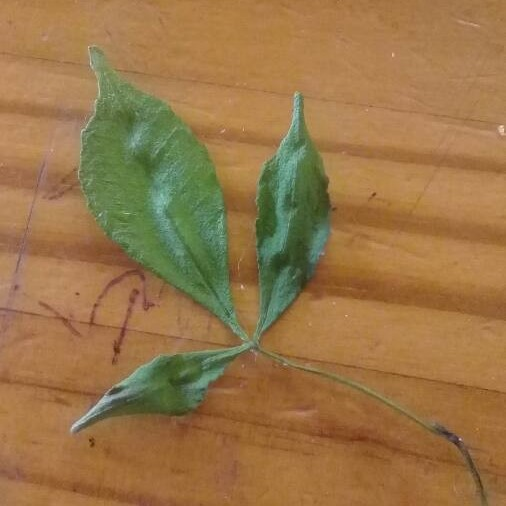obstacle: (53, 42, 472, 475)
